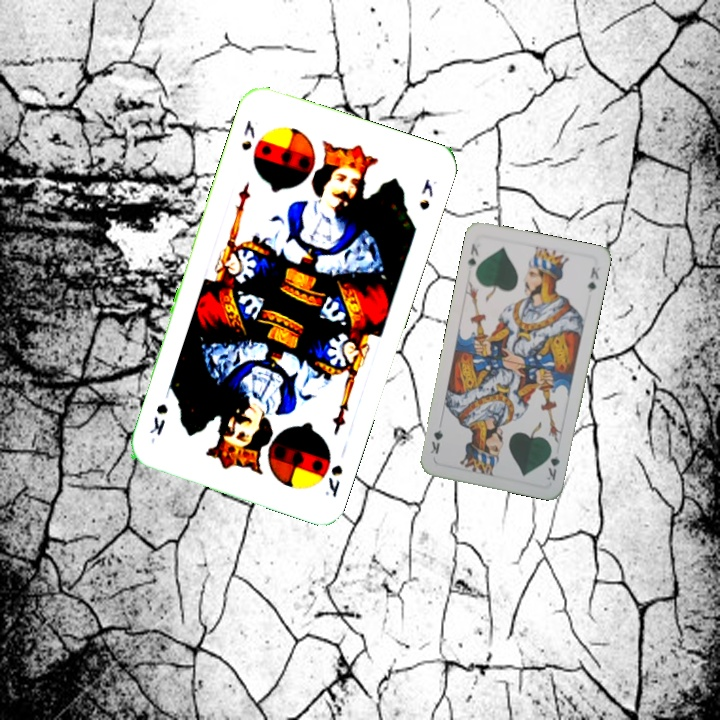GK: (543, 443, 562, 483), (464, 239, 481, 272)
SK: (321, 460, 346, 500), (237, 116, 258, 153)
